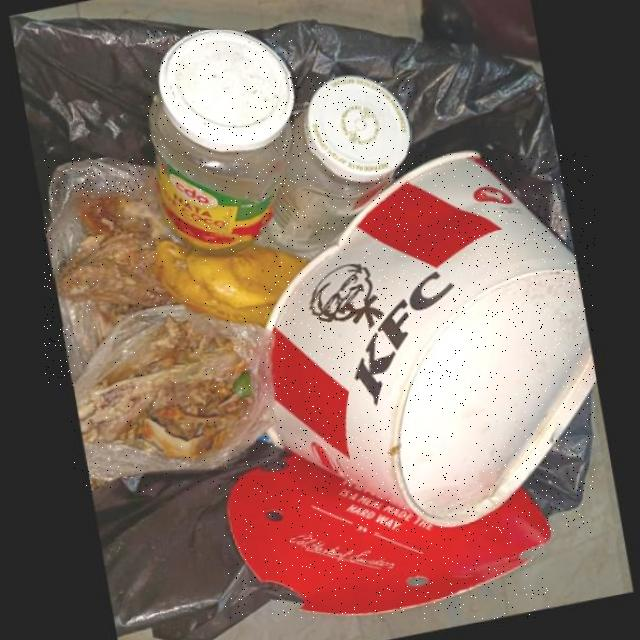biowaste: (75, 320, 256, 462), (55, 196, 171, 327), (154, 242, 309, 330)
glass: (147, 31, 297, 253), (263, 78, 411, 262)
paper: (265, 154, 595, 534), (224, 459, 549, 619)
plastic: (72, 306, 273, 493), (45, 158, 181, 386)
